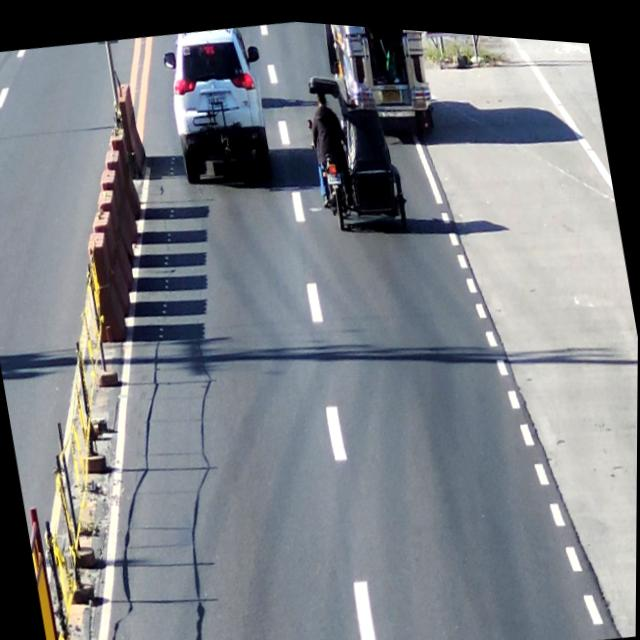Car: (160, 17, 274, 188)
Jeep: (325, 19, 436, 123)
License-Plate: (203, 86, 229, 108), (325, 162, 344, 184)
Tricycle: (293, 56, 413, 239)
